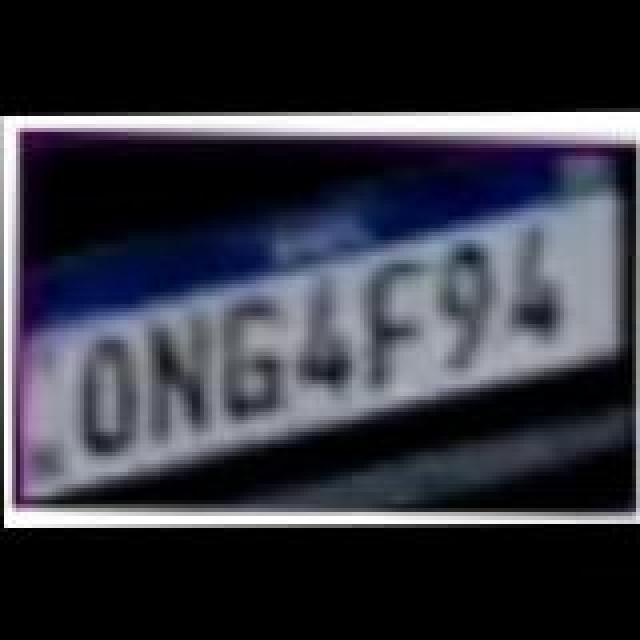4: (284, 272, 368, 396), (500, 220, 576, 340)
9: (428, 240, 512, 372)
F: (350, 256, 438, 388)
G: (206, 296, 302, 420)
N: (128, 312, 228, 444)
O: (56, 334, 148, 458)
